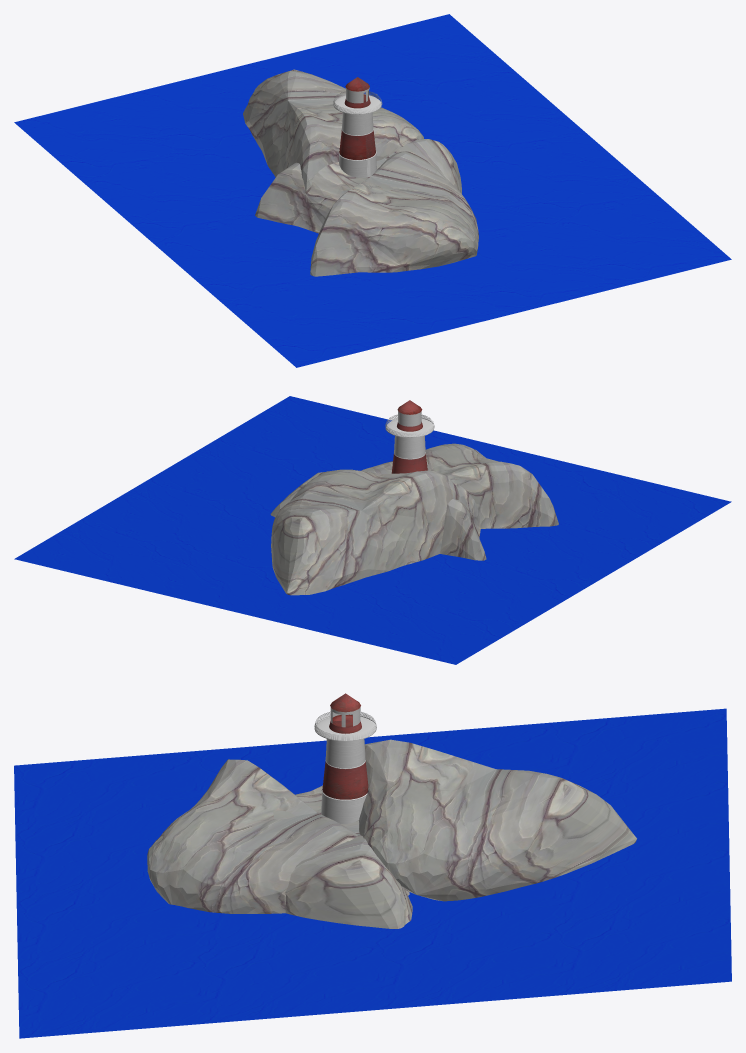
The model's file is lighthouse.gltf.
3 views of the same model, one above another, from view 1: azimuth 30°, elevation 25°; view 2: azimuth 150°, elevation 25°; view 3: azimuth 270°, elevation 25° (orthographic). The views are drawn at different scales.
Visible parts, largest first — view 1: Plane, Box5, Box6, Box4, Cylinder1, Cylinder2, Cylinder; view 2: Plane, Box6, Box5, Box4, Cylinder2, Cylinder1, Torus; view 3: Plane, Box6, Box5, Box4, Cylinder1, Cylinder2, Cylinder, Torus, Torus1.
Boxes of the visible parts, <box> form: Plane: <box>14,14,731,367</box>; Box5: <box>310,151,478,276</box>; Box6: <box>243,69,423,202</box>; Box4: <box>255,139,461,233</box>; Cylinder1: <box>339,130,375,159</box>; Cylinder2: <box>342,112,373,135</box>; Cylinder: <box>339,154,376,177</box>; Plane: <box>14,396,731,664</box>; Box6: <box>271,469,472,595</box>; Box5: <box>361,443,558,528</box>; Box4: <box>270,472,486,560</box>; Cylinder2: <box>394,435,425,458</box>; Cylinder1: <box>391,453,427,473</box>; Torus: <box>386,418,433,437</box>; Plane: <box>14,708,731,1038</box>; Box6: <box>359,739,636,901</box>; Box5: <box>147,759,409,913</box>; Box4: <box>273,785,412,928</box>; Cylinder1: <box>322,761,368,799</box>; Cylinder2: <box>325,734,365,768</box>; Cylinder: <box>321,793,366,823</box>; Torus: <box>315,717,376,740</box>; Torus1: <box>314,711,376,741</box>.
Size of the model in its own units: 209 by 91.06 by 230.
7 materials, 4 textured.
